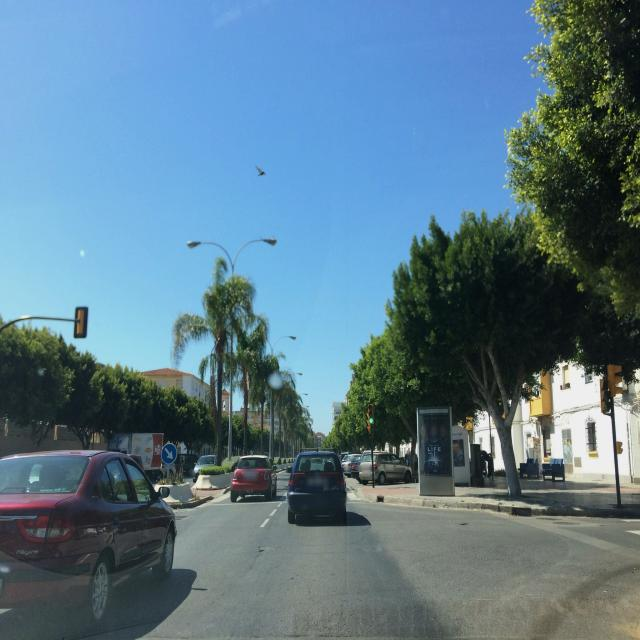car: (0, 449, 177, 635), (286, 448, 348, 524), (230, 454, 278, 502), (358, 451, 414, 485), (192, 455, 218, 479), (347, 453, 363, 478)
